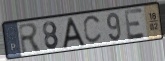8: (42, 20, 60, 50)
9: (106, 12, 122, 42)
A: (61, 16, 87, 50)
C: (82, 14, 103, 46)
E: (123, 7, 147, 42)
R: (17, 22, 43, 55)
